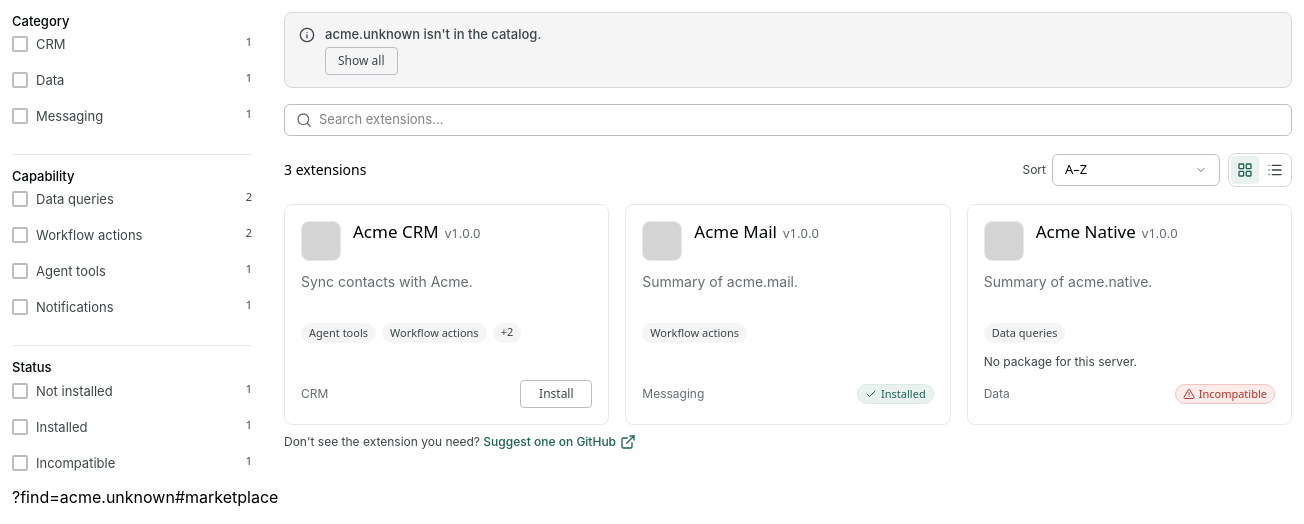
an unknown find id shows the catalog saying so, and Show all clears it
Expected: the text "acme.unknown isn't in the catalog." is shown, x1=325 y1=26 x2=541 y2=42
Expected: the heading "3 extensions" is shown, x1=284 y1=159 x2=366 y2=180
Click the button "Show all" at (361, 60), box x1=325 y1=46 x2=398 y2=74
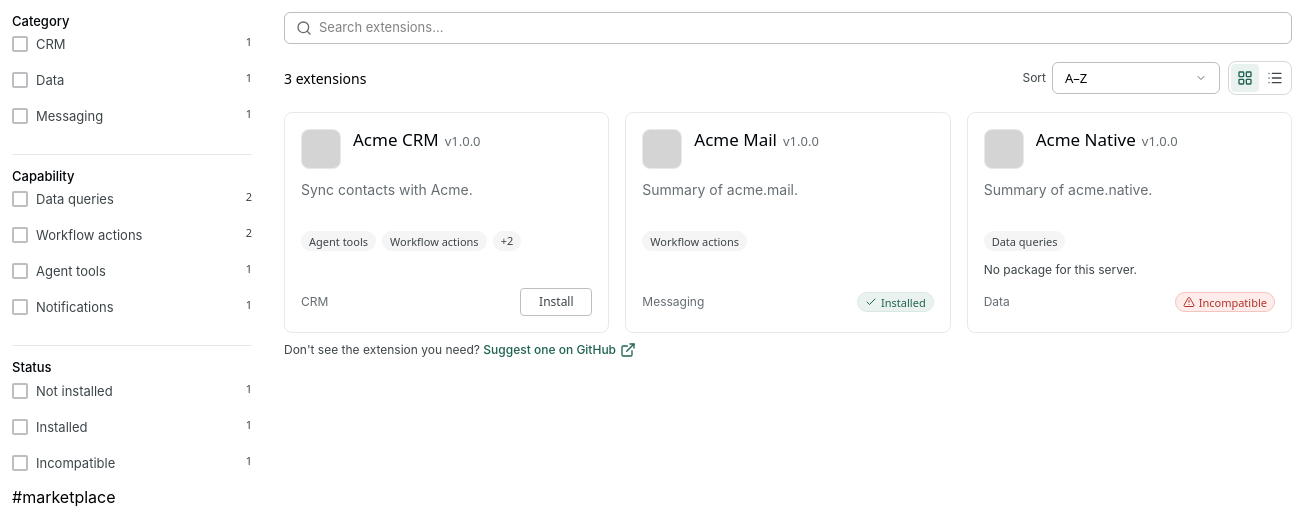
Result: the text "acme.unknown isn't in the catalog." is gone
Result: the text with test id "location" reads "#marketplace" at x1=12 y1=487 x2=116 y2=507
